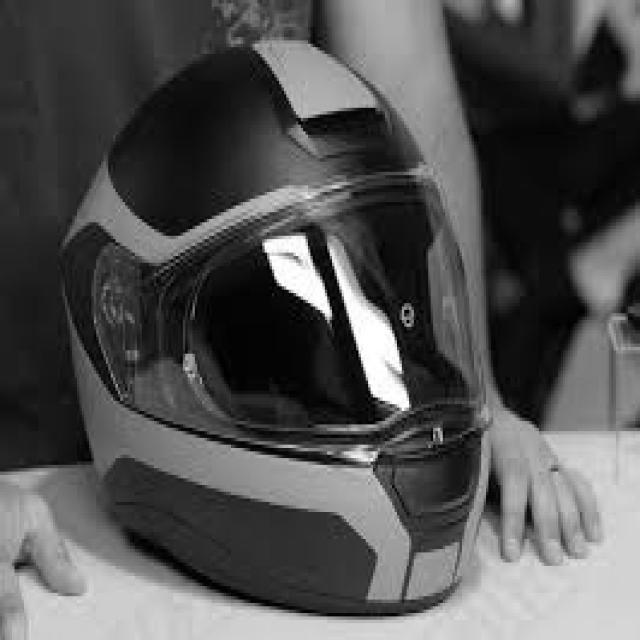Helmet: (56, 37, 492, 621)
